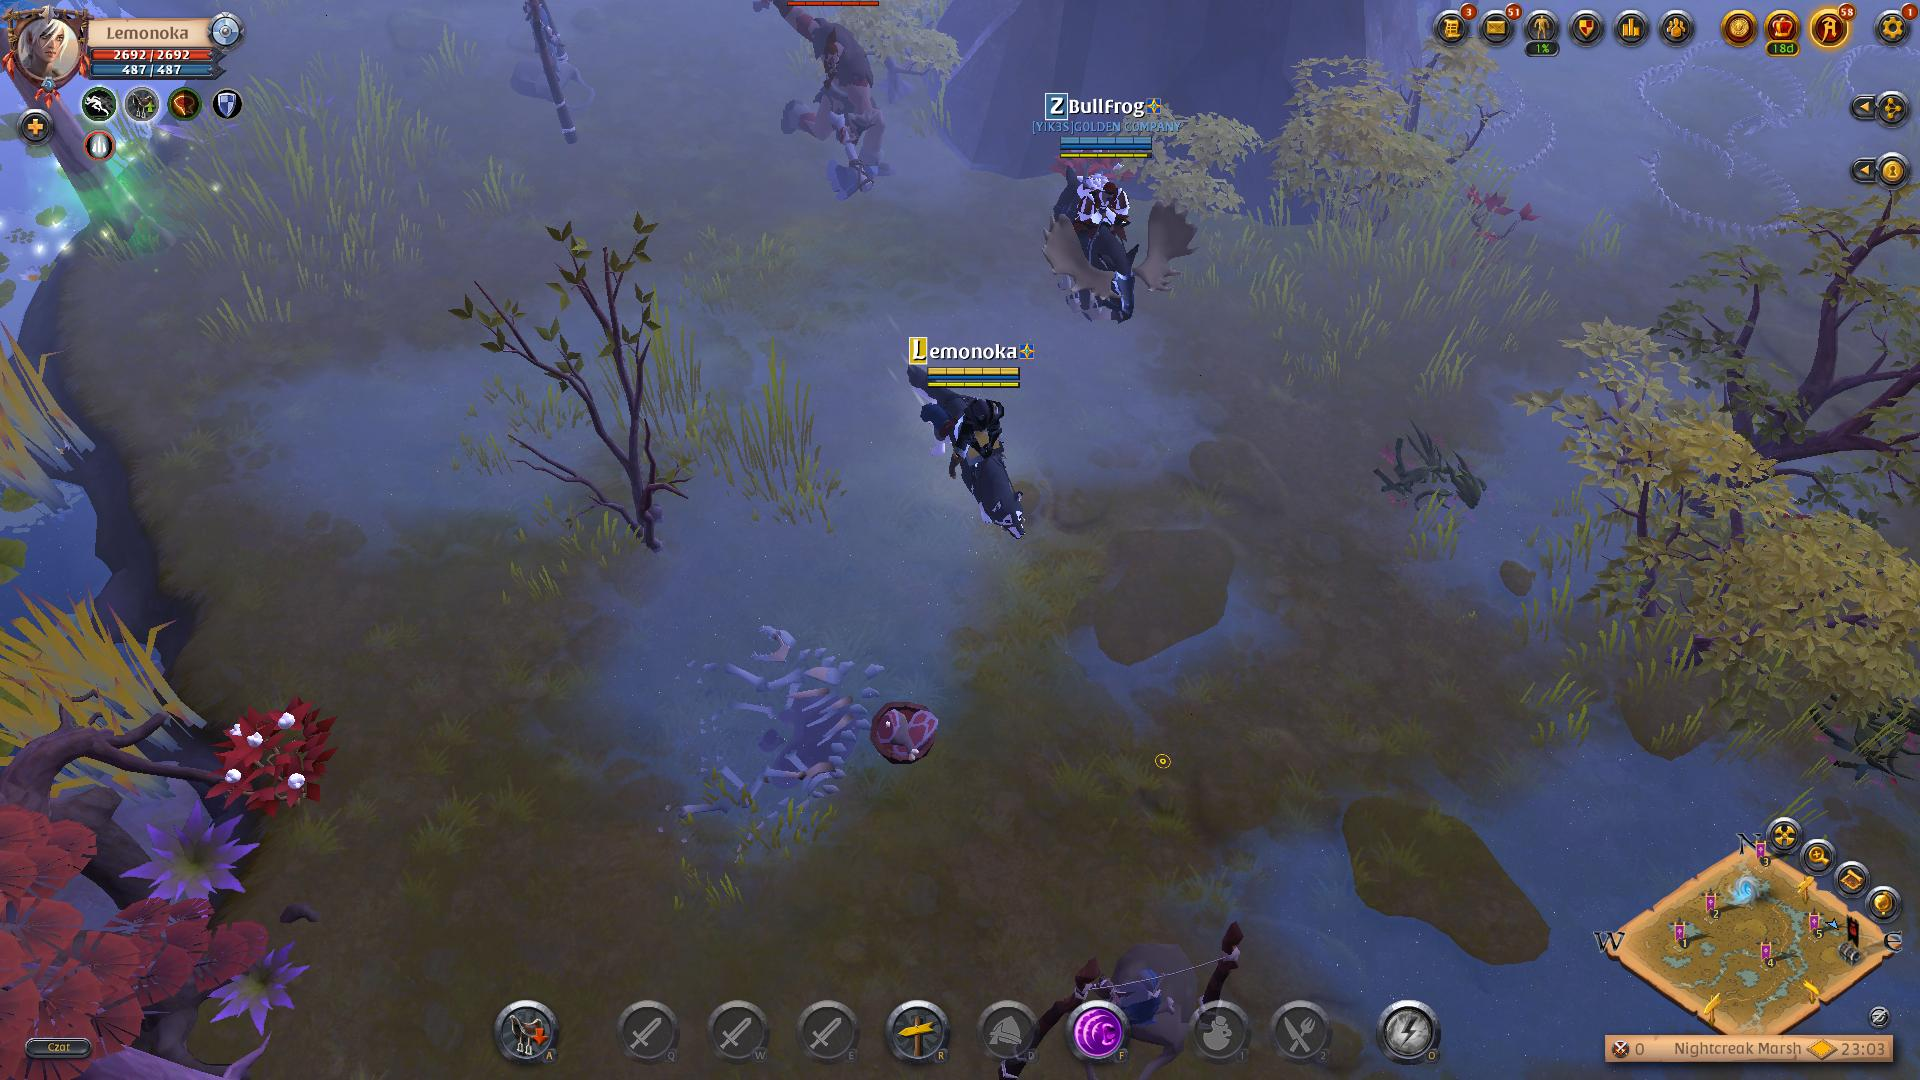fiber tier 5: (210, 695, 339, 819)
